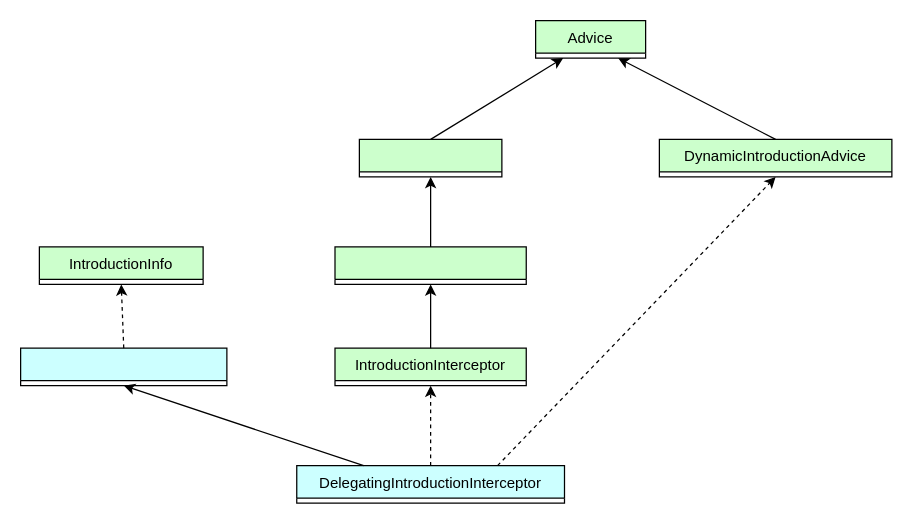
The diagram is 913 pixels wide and 524 high, and some of its shapes have lost their labels. Here are the shapes that lost their labels. From the top down, the centre of each, then its label:
At point (430, 157): "Interceptor".
At point (430, 265): "MethodInterceptor".
At point (123, 366): "IntroductionInfoSupport".
